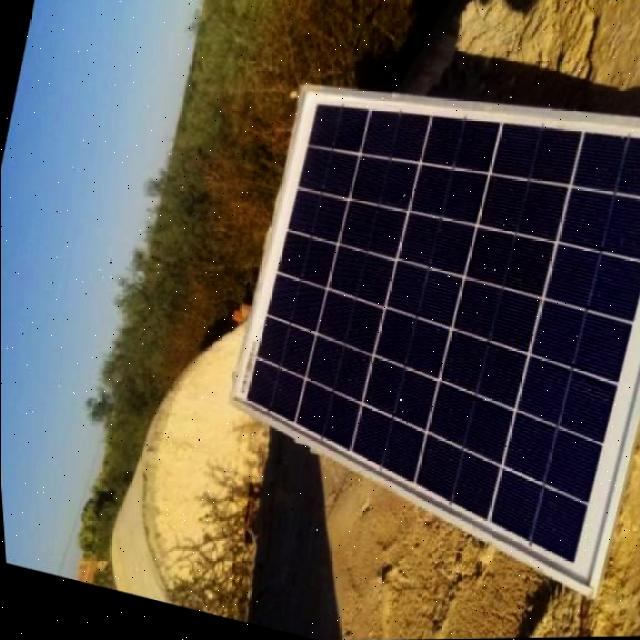Normal Solar Panel: (176, 27, 640, 603)
